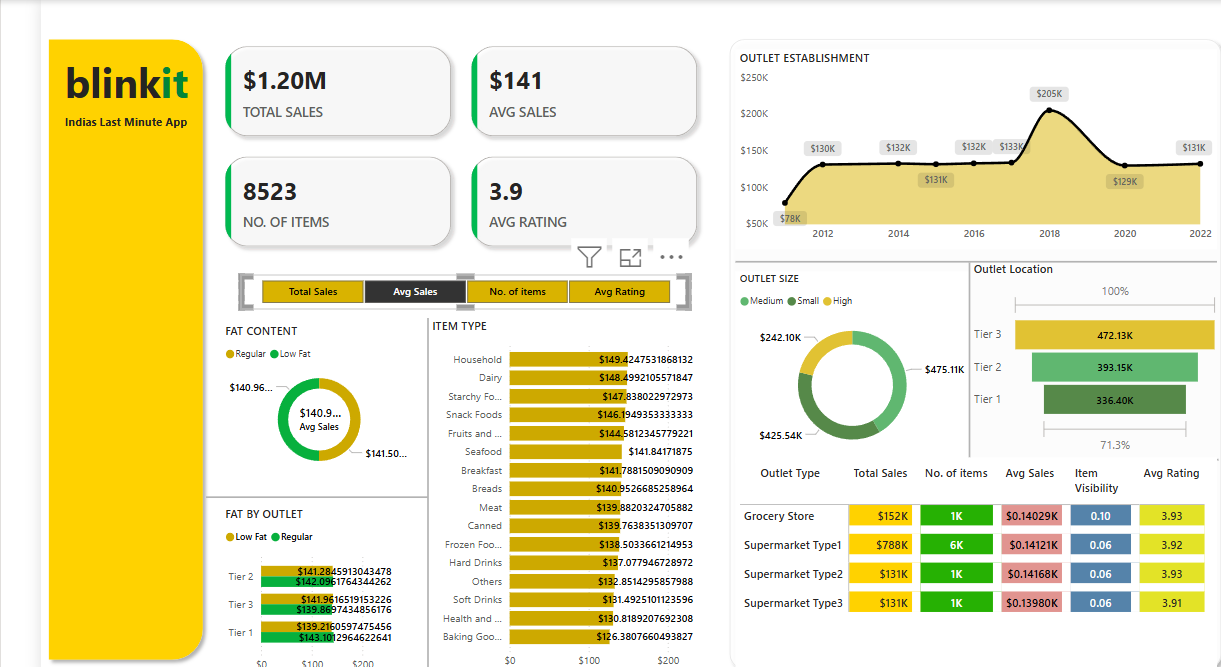

The page's visual inventory and layout, read from the dashboard file:
{"tool":"powerbi","page":{"name":"SALES DATA ANALYSIS","canvas":[1400,800],"ordinal":0},"visuals":[{"type":"shape","box":[0,37.1,199.7,749.4],"z":0},{"type":"textbox","box":[23,58.3,155.5,114.9],"z":1000},{"type":"textbox","box":[23,129,360.5,63.6],"z":2000},{"type":"cardVisual","fields":{"Data":["BlinkIT Grocery Data.Total Sales","BlinkIT Grocery Data.Avg Sales","BlinkIT Grocery Data.No. of items","BlinkIT Grocery Data.Avg Rating"]},"box":[199.7,37.1,590.3,270.4],"z":3000},{"type":"shape","box":[802.4,37.1,597.4,760],"z":4000},{"type":"donutChart","title":"FAT CONTENT","fields":{"Y":["BlinkIT Grocery Data.Total Sales","BlinkIT Grocery Data.Avg Sales"],"Category":["BlinkIT Grocery Data.Item Fat Content"]},"box":[212.1,380,231.5,183.8],"z":5000},{"type":"slicer","fields":{"Values":["Metrics.Metrics"]},"box":[235.1,323.4,530.2,40.6],"z":6000},{"type":"cardVisual","fields":{"Data":["BlinkIT Grocery Data.Total Sales"]},"box":[284.5,459.5,86.6,56.6],"z":7000},{"type":"clusteredBarChart","title":"FAT BY OUTLET","fields":{"Y":["BlinkIT Grocery Data.Total Sales"],"Category":["BlinkIT Grocery Data.Outlet Location Type"],"Series":["BlinkIT Grocery Data.Item Fat Content"]},"box":[212.1,595.6,219.2,205],"z":8000},{"type":"shape","box":[194.4,563.8,261.6,44.2],"z":9000},{"type":"shape","box":[417.1,374.7,77.8,422.4],"z":10000},{"type":"barChart","title":"ITEM  TYPE","fields":{"Y":["BlinkIT Grocery Data.Total Sales"],"Category":["BlinkIT Grocery Data.Item Type"]},"box":[456,374.7,330.5,422.4],"z":11000},{"type":"lineChart","title":"OUTLET ESTABLISHMENT ","fields":{"Y":["BlinkIT Grocery Data.Total Sales"],"Category":["BlinkIT Grocery Data.Outlet Establishment Year"]},"box":[818.3,58.3,567.3,235.1],"z":12000},{"type":"shape","box":[818.3,159.1,567.3,298.7],"z":13000},{"type":"donutChart","title":"OUTLET SIZE","fields":{"Y":["BlinkIT Grocery Data.Total Sales"],"Category":["BlinkIT Grocery Data.Outlet Size"]},"box":[818.3,319.9,275,225],"z":14000},{"type":"shape","box":[1055.1,309.3,77.8,229.8],"z":15000},{"type":"shape","box":[820,519.6,567.3,44.2],"z":16000},{"type":"funnel","title":"Outlet Location","fields":{"Category":["BlinkIT Grocery Data.Outlet Location Type"],"Y":["Sum(BlinkIT Grocery Data.Sales)"]},"box":[1094,307.5,298.7,231.5],"z":17000},{"type":"pivotTable","fields":{"Rows":["BlinkIT Grocery Data.Outlet Type"],"Values":["BlinkIT Grocery Data.Total Sales","BlinkIT Grocery Data.No. of items","BlinkIT Grocery Data.Avg Sales","Avg(BlinkIT Grocery Data.Item Visibility)","BlinkIT Grocery Data.Avg Rating"]},"box":[818.3,539,567.3,247.4],"z":18000}]}

Visuals, with their boxes on the page's 1400x800 design canvas (x1, y1, x2, y2). These are canvas units, not pixel positions in the 1221x667 screenshot, which may show the page scaled, cropped or inside an application window:
shape: 0:37:200:786
textbox: 23:58:178:173
textbox: 23:129:384:193
cardVisual - BlinkIT Grocery Data.Total Sales x BlinkIT Grocery Data.Avg Sales: 200:37:790:308
shape: 802:37:1400:797
"FAT CONTENT" donutChart: 212:380:444:564
slicer - Metrics.Metrics: 235:323:765:364
cardVisual - BlinkIT Grocery Data.Total Sales: 284:460:371:516
"FAT BY OUTLET" clusteredBarChart: 212:596:431:801
shape: 194:564:456:608
shape: 417:375:495:797
"ITEM  TYPE" barChart: 456:375:786:797
"OUTLET ESTABLISHMENT " lineChart: 818:58:1386:293
shape: 818:159:1386:458
"OUTLET SIZE" donutChart: 818:320:1093:545
shape: 1055:309:1133:539
shape: 820:520:1387:564
"Outlet Location" funnel: 1094:308:1393:539
pivotTable - BlinkIT Grocery Data.Outlet Type x BlinkIT Grocery Data.Total Sales: 818:539:1386:786
